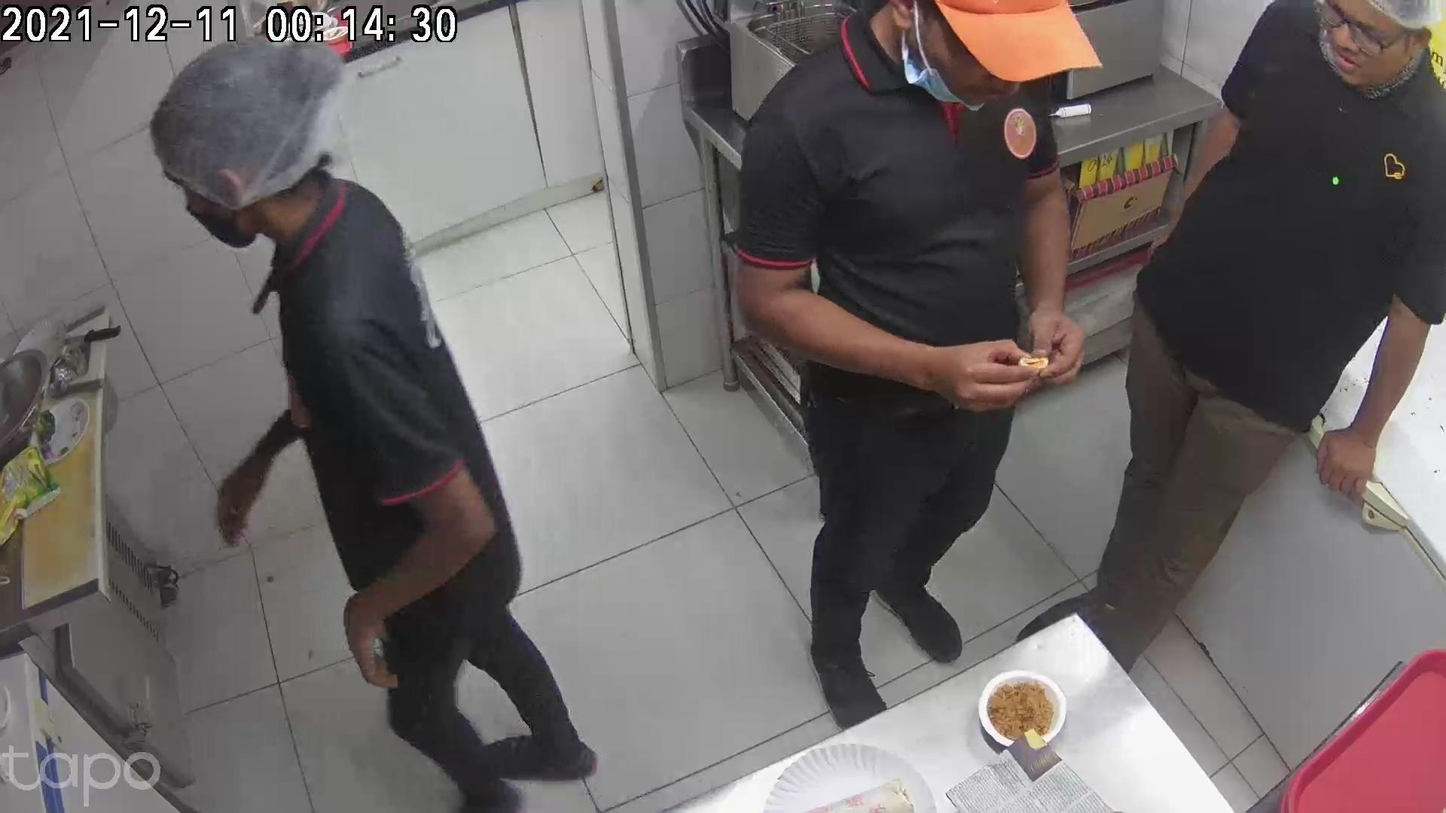no_gloves: (579, 330, 757, 412)
